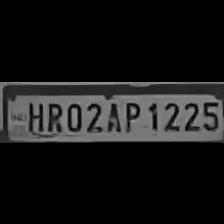0: (63, 98, 83, 132)
1: (142, 99, 160, 131)
2: (83, 98, 103, 132), (160, 97, 180, 130), (180, 97, 198, 130)
5: (198, 97, 220, 131)
A: (104, 98, 120, 132)
H: (24, 98, 43, 132)
P: (121, 98, 141, 132)
R: (44, 99, 62, 133)
